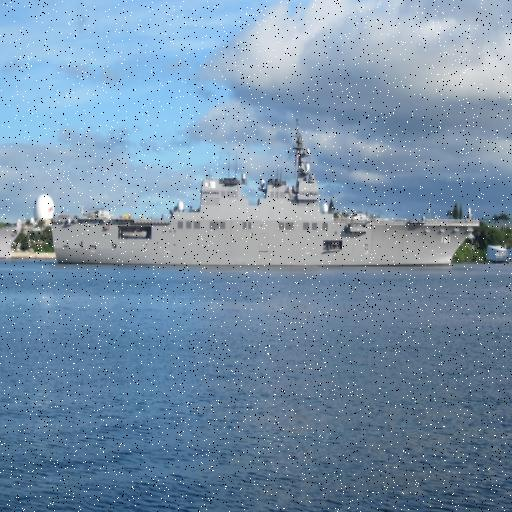Portanaves: (46, 113, 484, 273)
